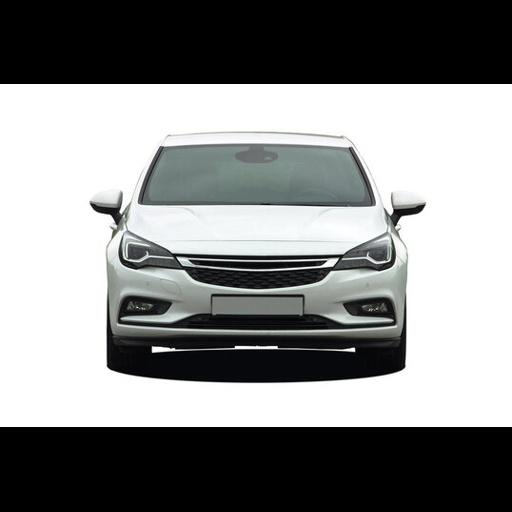sedan: (91, 133, 424, 368)
